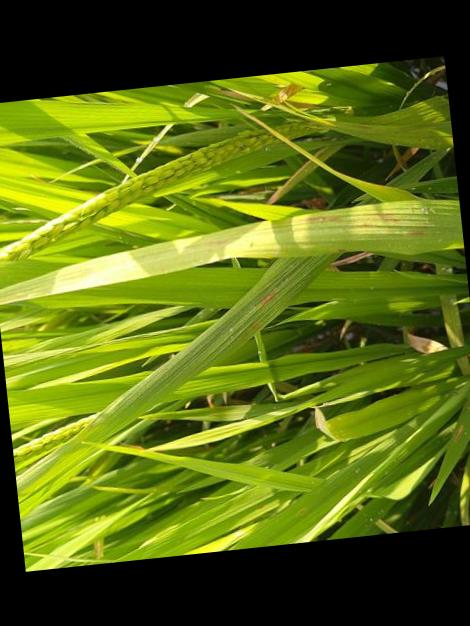Leaf Streak: (292, 202, 464, 251), (148, 221, 279, 275), (250, 282, 280, 330)
